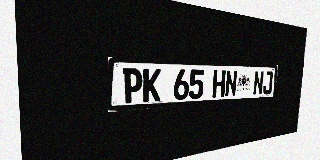5: (189, 69, 204, 99)
6: (173, 69, 190, 100)
H: (212, 70, 226, 98)
J: (262, 71, 273, 95)
K: (143, 68, 161, 102)
N: (225, 70, 238, 97), (253, 71, 264, 95)
P: (122, 68, 142, 103)
